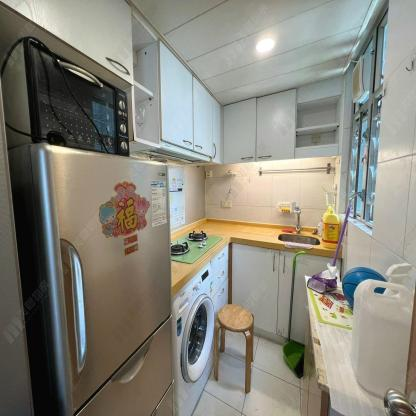Cupboard: (223, 88, 296, 165), (294, 75, 344, 158)
Exhaust Fan: (351, 55, 364, 103)
Exhaust Hood: (135, 140, 211, 167)
Faucet: (289, 203, 305, 234)
Fridge: (8, 143, 174, 416)
Oven: (0, 39, 131, 158)
Sink: (267, 227, 323, 249)
Stove: (171, 227, 229, 274)
Washing Machine: (170, 261, 213, 416)
